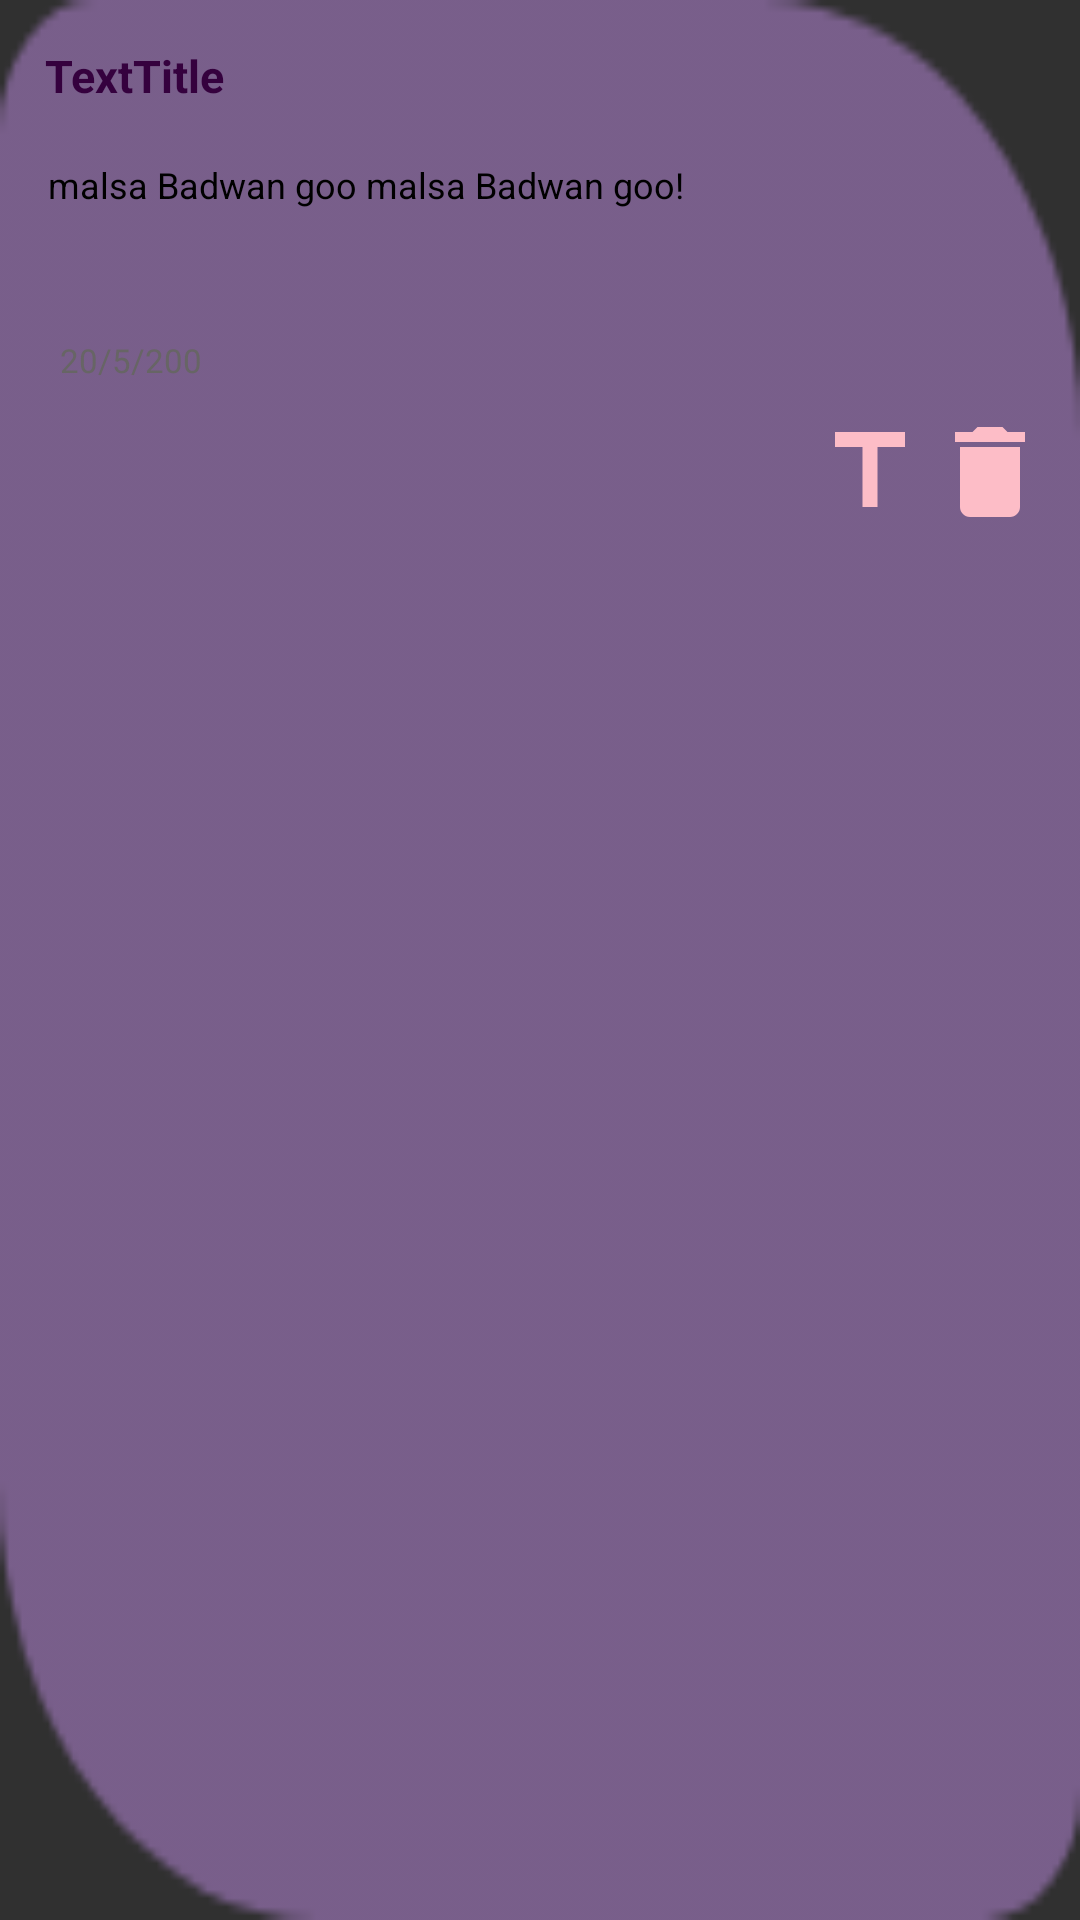

Named icons in this screenshot (1080px x 1920px) and their bounding boxes, (x1, y1, x2, y2):
title: (835, 432, 905, 507)
